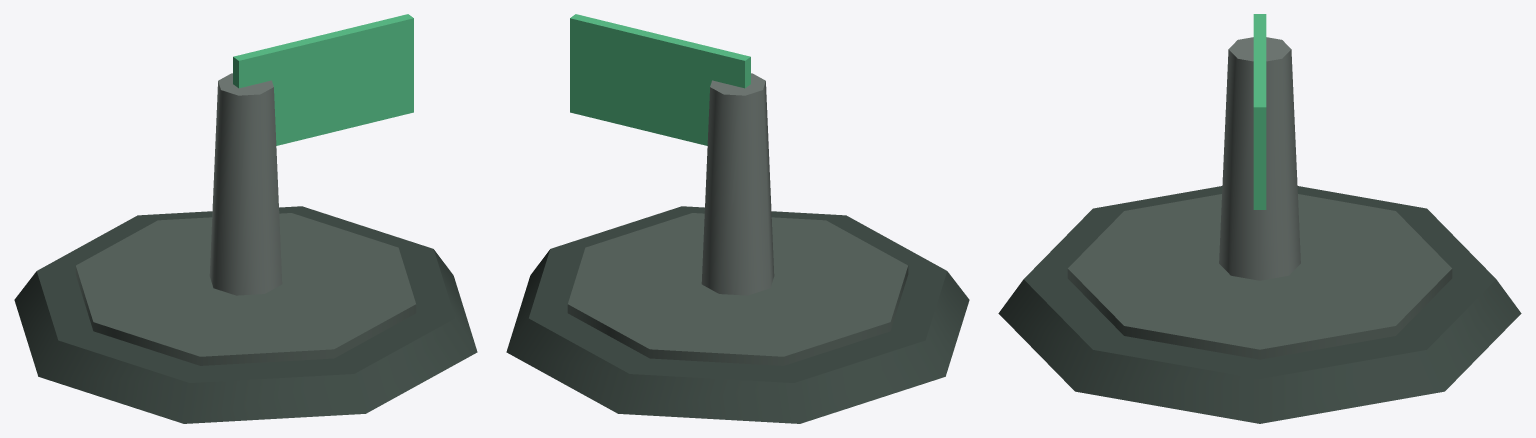
File: claim_marker-2.glb
The picture shows the model from 3 angles, left to right: view 1: azimuth 30°, elevation 25°; view 2: azimuth 150°, elevation 25°; view 3: azimuth 270°, elevation 25°; orthographic projection. The views are drawn at different scales.
Visible parts, largest first — view 1: claim_marker; view 2: claim_marker; view 3: claim_marker.
Part boxes in pixels (left/top/right/bottom): claim_marker: left=14, top=14, right=477, bottom=423; claim_marker: left=506, top=14, right=969, bottom=423; claim_marker: left=998, top=14, right=1521, bottom=423.
Size of the model in its own units: 1.66 by 1.03 by 1.66.
